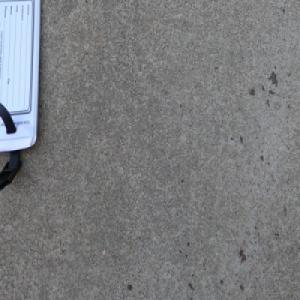LuggageTag: (0, 0, 44, 199)
